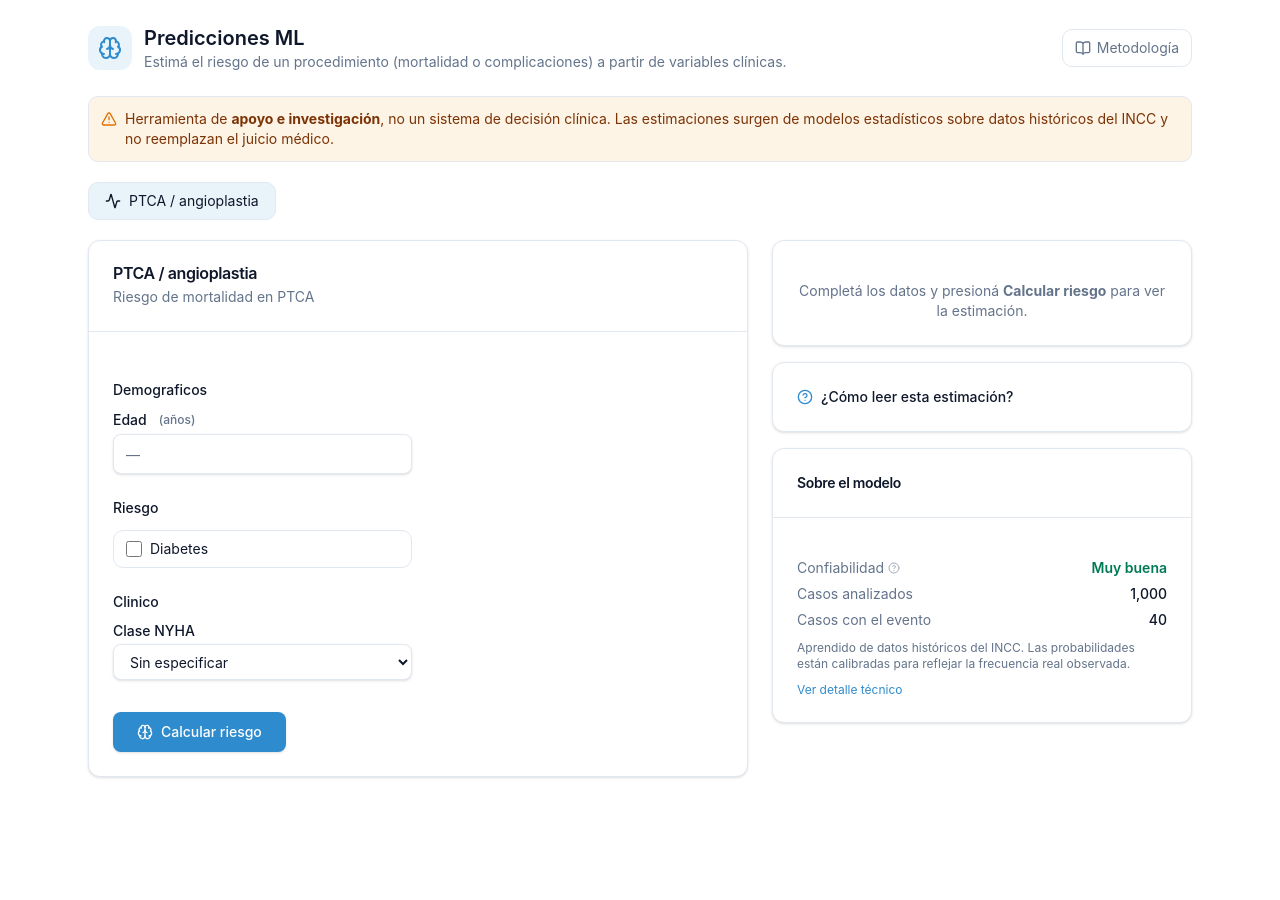
Test: MLPage › muestra error de prediccion
Click the button "Calcular riesgo": point(199, 732) x1=113 y1=712 x2=286 y2=752
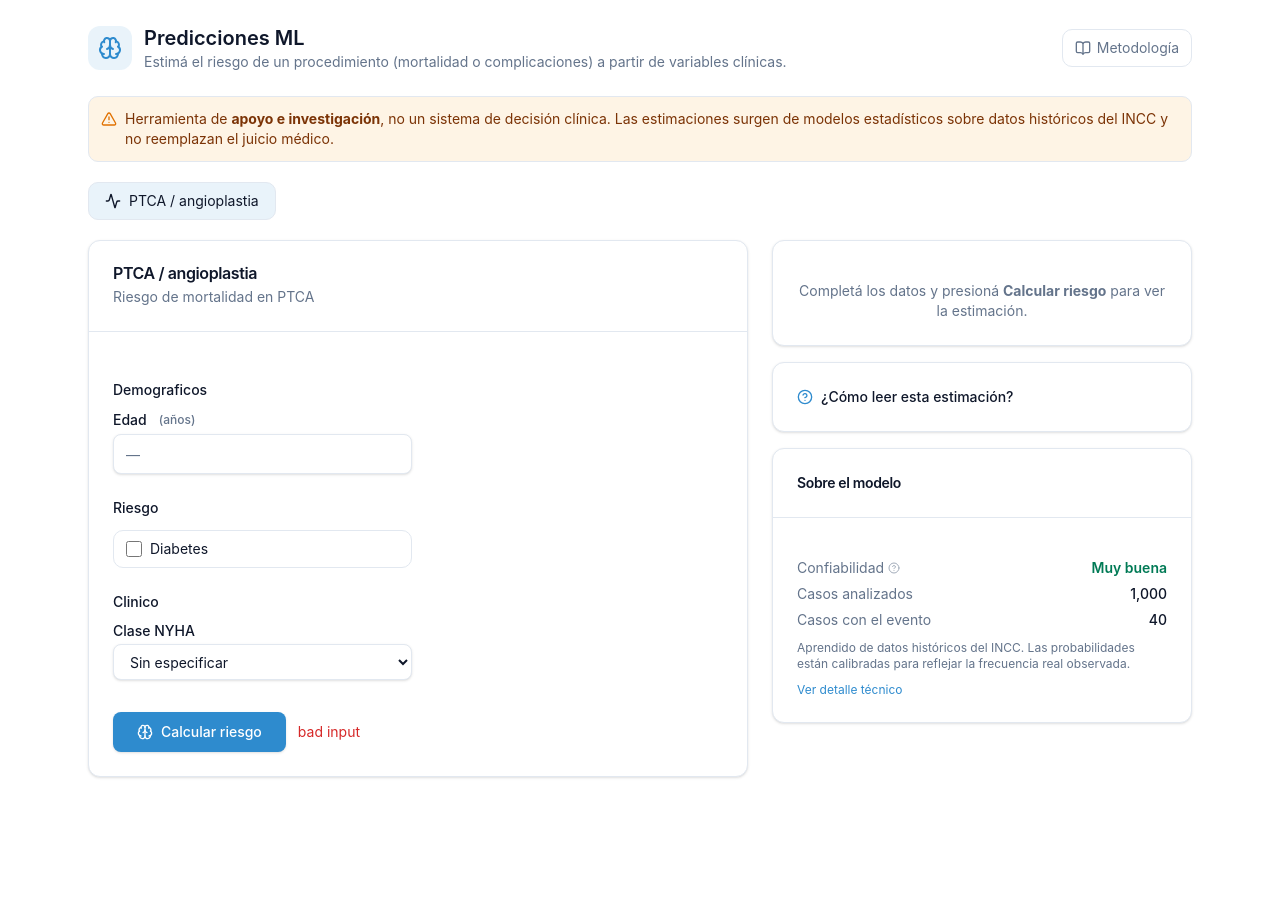
Now the text "bad input" is shown, box x1=298 y1=722 x2=360 y2=742
